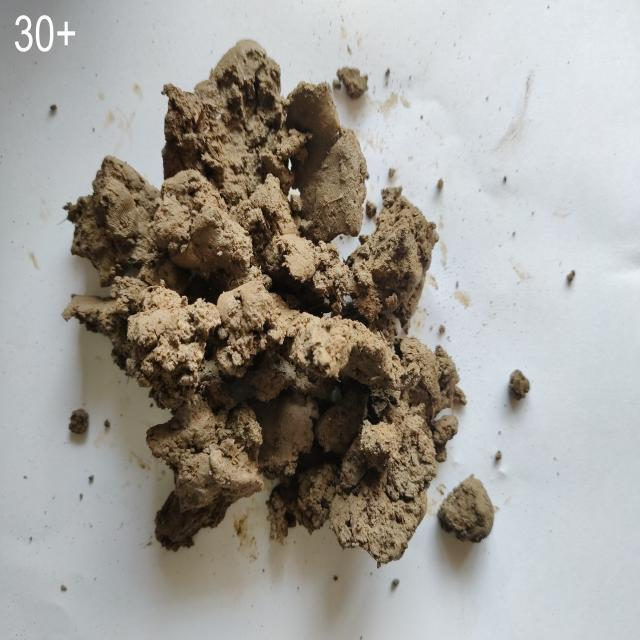soil: (173, 98, 344, 494)
